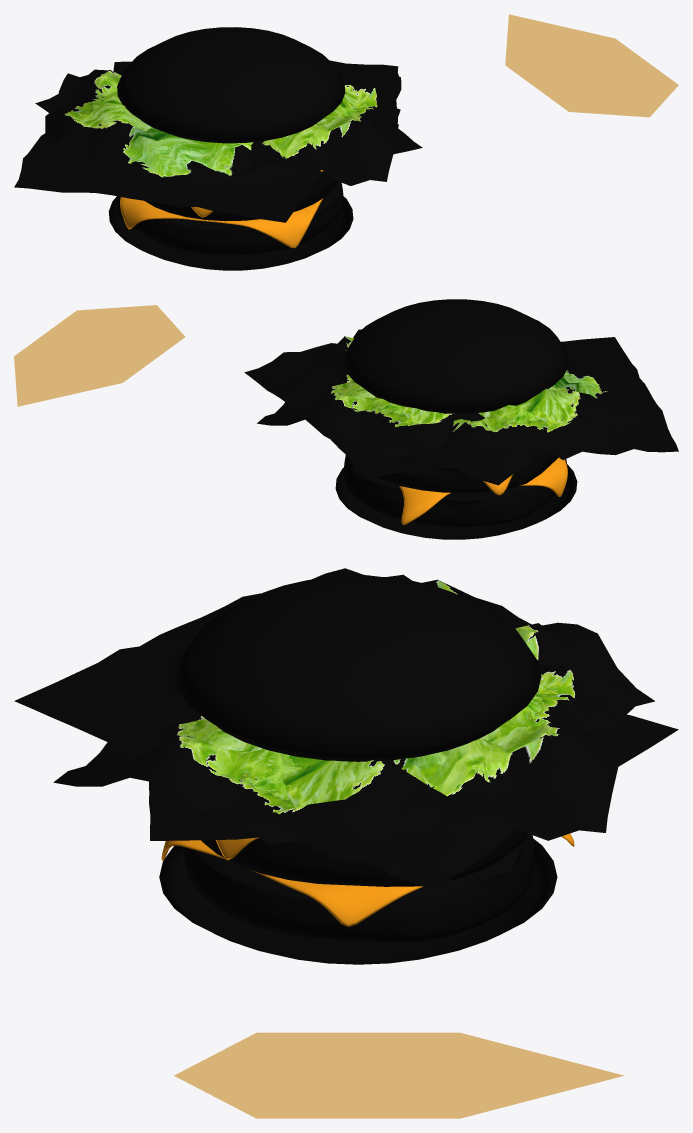
File: DoublePattyWithOnion.glb
3 views of the same model, one above another, from view 1: azimuth 30°, elevation 25°; view 2: azimuth 150°, elevation 25°; view 3: azimuth 270°, elevation 25° (orthographic). The views are drawn at different scales.
Parts seen in each view (by area): view 1: Lettuce.002, Top Bun, Seeds, Lettuce.001, Patty, Bottom Bun, Cheese1, Patty2, Lettuce; view 2: Top Bun, Lettuce.002, Seeds, Lettuce, Patty, Lettuce.001, Bottom Bun, Patty2, Cheese1; view 3: Top Bun, Lettuce.001, Seeds, Lettuce, Lettuce.002, Patty, Bottom Bun, Patty2, Cheese1.
Boxes of the visible parts, x1,y1,x2,y2 form: Lettuce.002: (14,69,320,222); Top Bun: (117,27,345,143); Seeds: (505,14,678,117); Lettuce.001: (113,60,401,185); Patty: (117,181,343,255); Bottom Bun: (108,196,353,270); Cheese1: (120,197,322,248); Patty2: (144,171,337,221); Lettuce: (35,69,422,207); Top Bun: (343,299,568,413); Lettuce.002: (398,337,678,475); Seeds: (14,305,185,406); Lettuce: (257,367,536,485); Patty: (343,455,567,526); Lettuce.001: (244,329,405,478); Bottom Bun: (335,464,577,539); Patty2: (348,452,558,492); Cheese1: (399,457,567,524); Top Bun: (175,576,541,761); Lettuce.001: (53,690,678,890); Seeds: (174,1032,623,1118); Lettuce: (149,665,620,840); Lettuce.002: (14,568,654,741); Patty: (183,833,535,941); Bottom Bun: (159,839,557,964); Patty2: (201,828,527,886); Cheese1: (161,833,574,926).
Bounding box in the file's own units: 11.57 × 3.26 × 6.53.
Materials: 26 (11 with a texture image).
